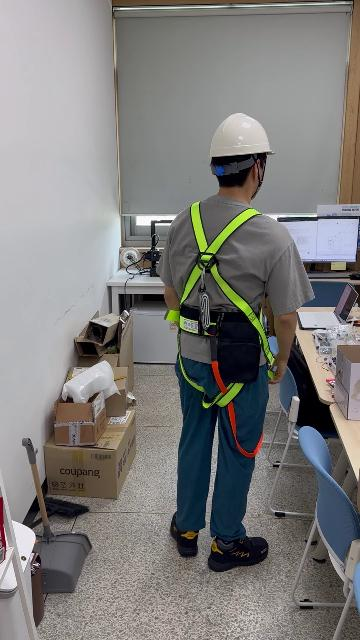helmet_worn: (207, 112, 277, 159)
shoe_worn: (208, 534, 269, 572), (170, 512, 199, 557)
vest_worn: (166, 203, 279, 444)
